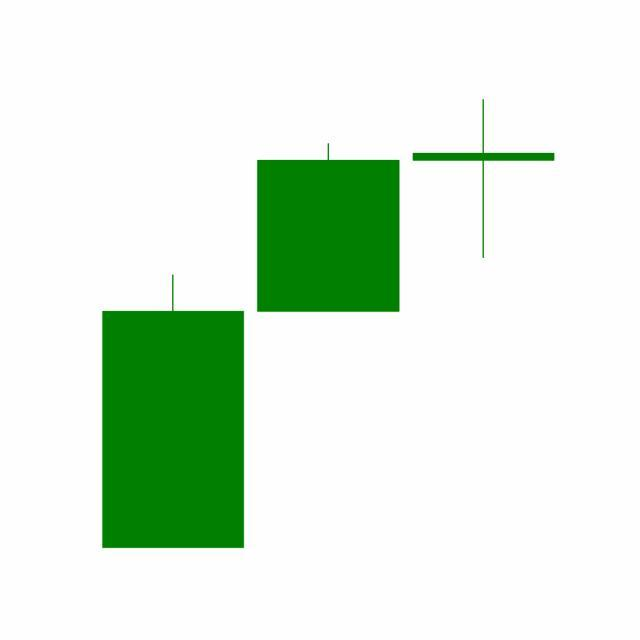Spinning Top: (406, 98, 562, 261)
